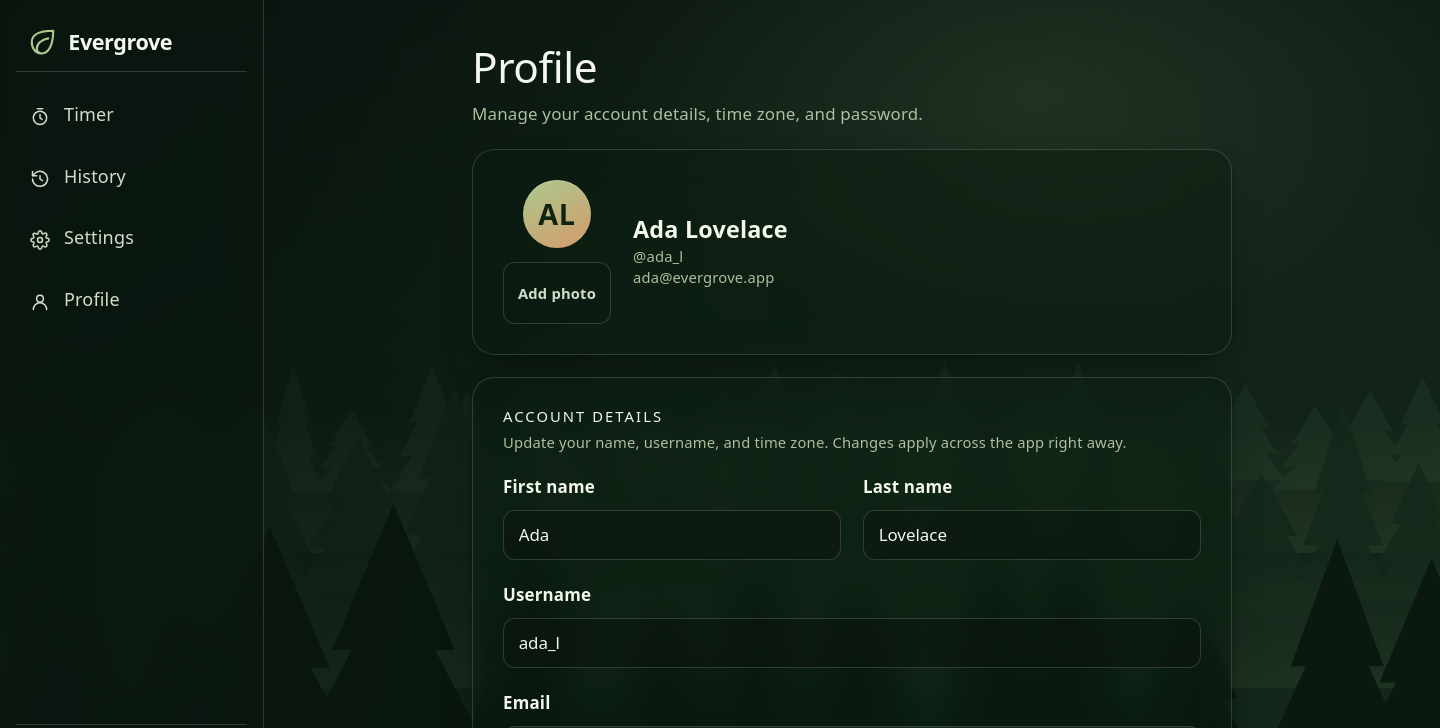
Suite J3 — Editing and client-side validation › J3.3 — refuses to spend a request on a value it already knows is invalid
Replace the text in the field labelled "Username" with "ab" at (852, 643), box [519,619,1185,667]
(page scrolled)
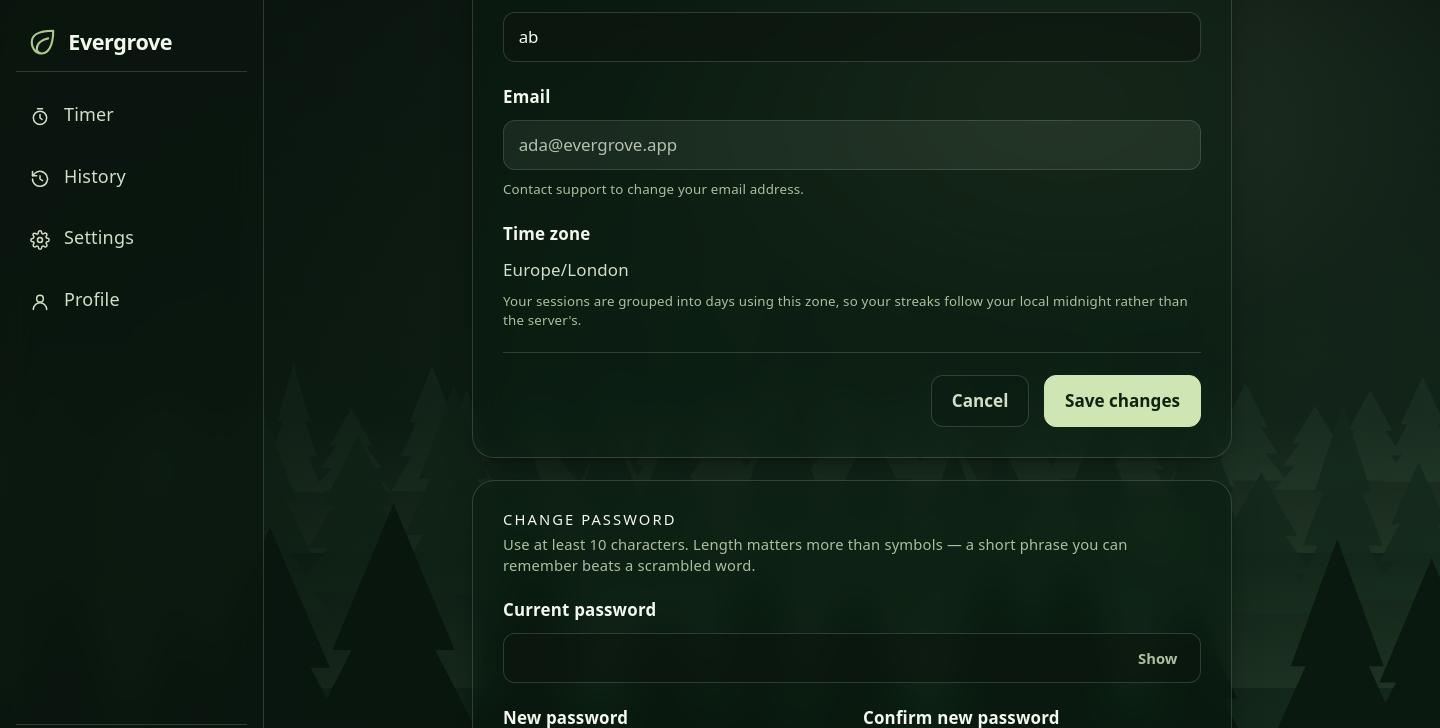
Click the button "Save changes" at (1122, 401), box [1044,375,1201,427]
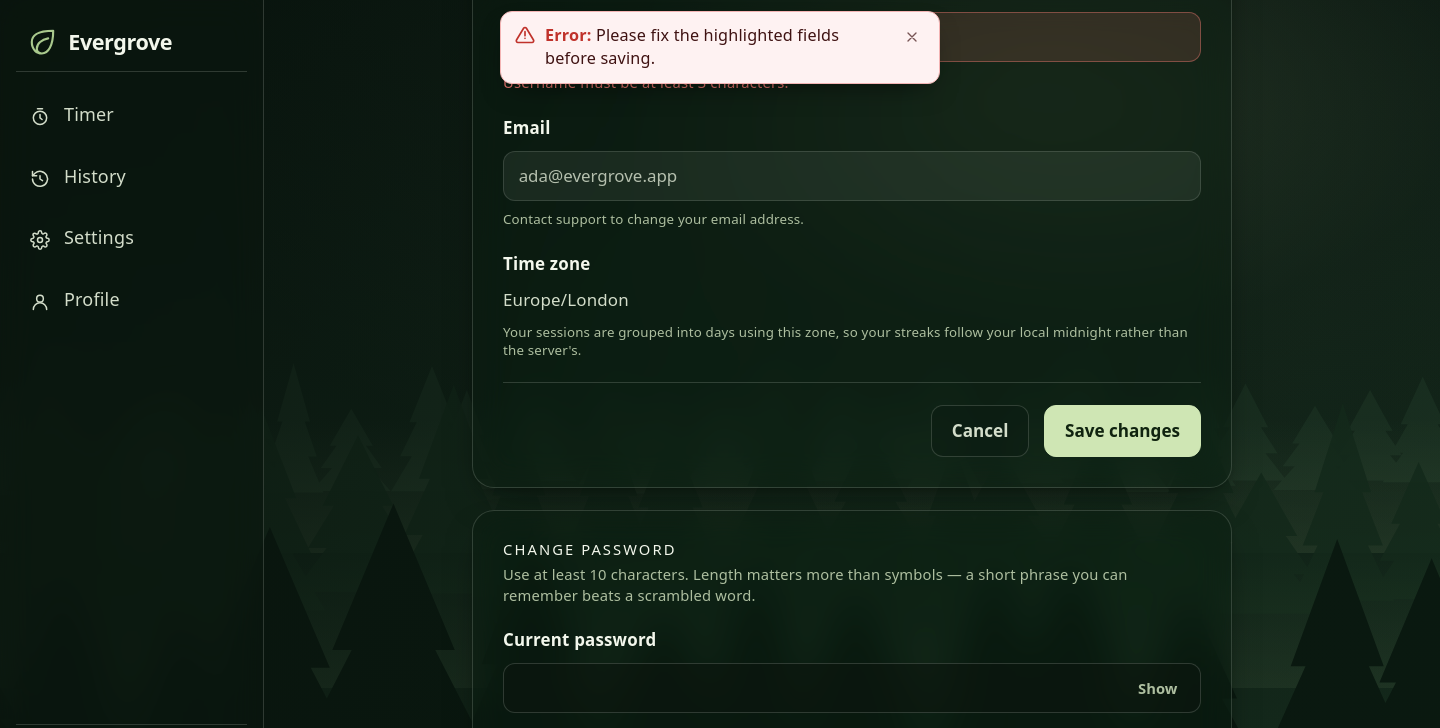
Now the text "Username must be at least 3 characters." is shown, box [503,72,789,92]
Now the text "Error: Please fix the highlighted fields before saving." is shown, box [545,24,889,71]
